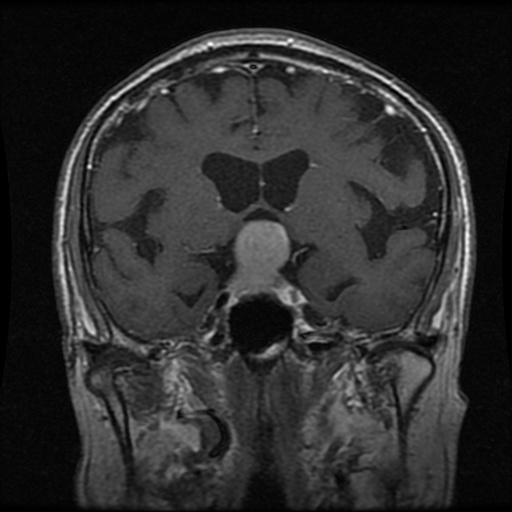pituitary: (226, 218, 289, 301)
